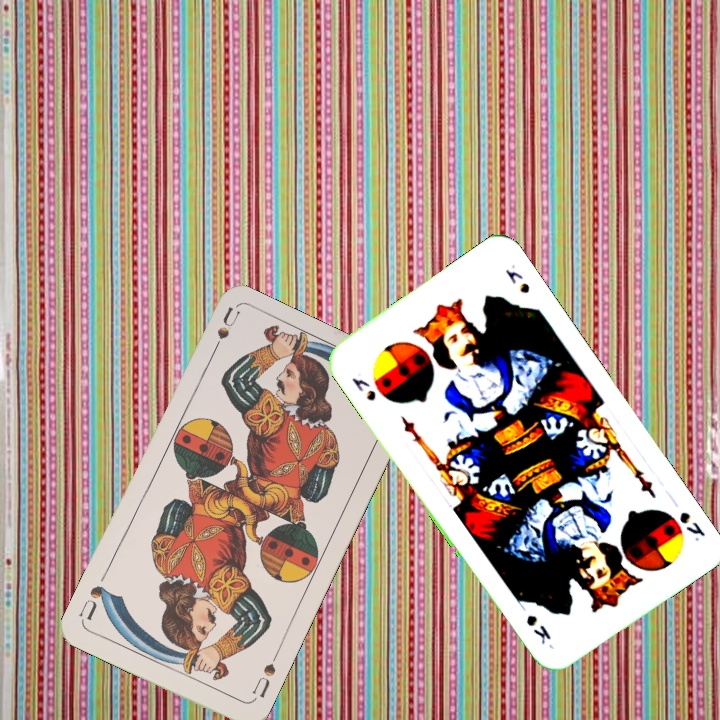SK: (675, 507, 708, 544), (347, 373, 379, 404)
SU: (205, 305, 242, 362), (248, 648, 281, 704)
